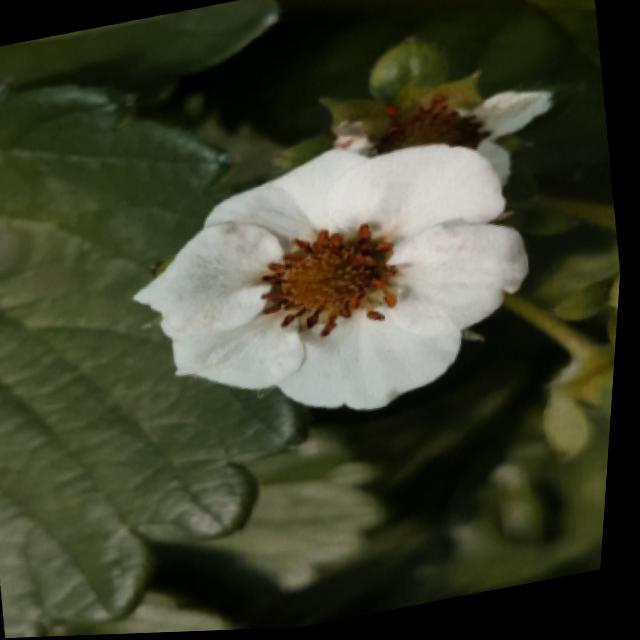Blossom Blight: (258, 217, 410, 346)
